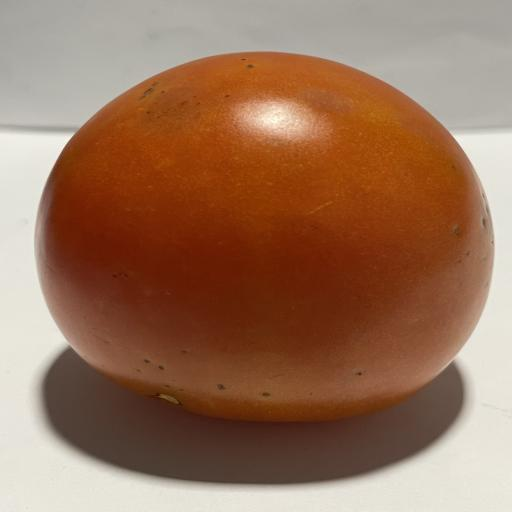ripe: (36, 52, 495, 421)
